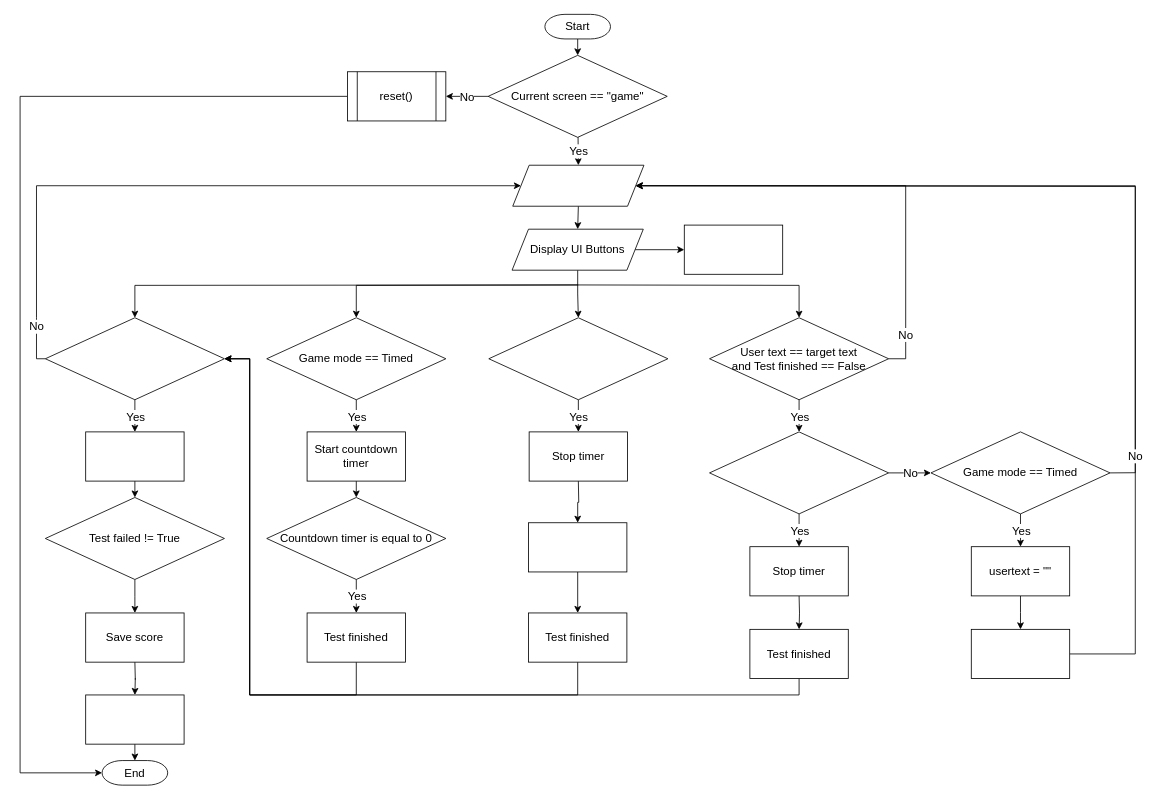
Image size: 1157x800. Some labels were removed from this diagram. Here are the shapes that lost their labels. From the top down, the centre of each, then its label:
the point at 578,185: Display target sentence
the point at 733,249: Check if buttons are being clicked
the point at 134,358: Test finished == True
the point at 578,358: Game mode == Survival and user's lives <= 0
the point at 134,456: Current scren == "results"
the point at 799,472: Game mode == Normal or Survival
the point at 577,547: Test failed = True
the point at 1020,654: Generate new sentence
the point at 134,719: Update scores
